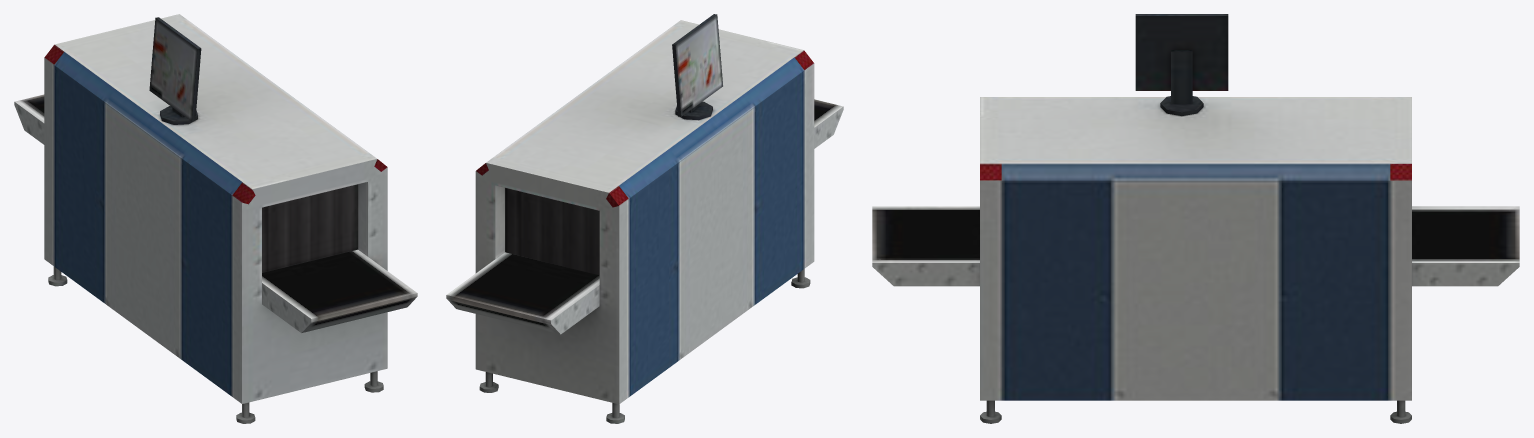
File: XraySearchDesk.gltf
The picture shows the model from 3 angles, left to right: view 1: azimuth 30°, elevation 25°; view 2: azimuth 150°, elevation 25°; view 3: azimuth 270°, elevation 25°; orthographic projection. The views are drawn at different scales.
Visible parts, largest first — view 1: XraySearchDesk; view 2: XraySearchDesk; view 3: XraySearchDesk.
Part boxes in pixels (box(x1,y1,x2,y2)): XraySearchDesk: box(14, 14, 417, 423); XraySearchDesk: box(446, 14, 843, 423); XraySearchDesk: box(872, 14, 1519, 423).
Size of the model in its own units: 8.5 by 17.74 by 30.01.
Materials: 1 (1 with a texture image).
